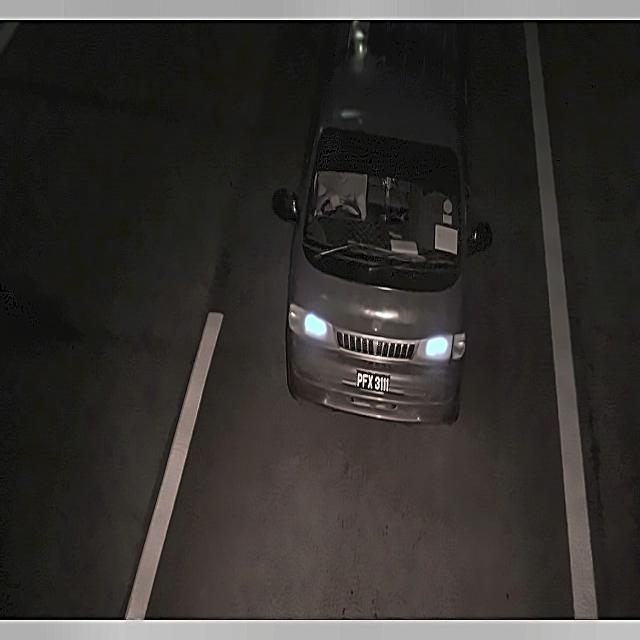car: (355, 364, 394, 396)
